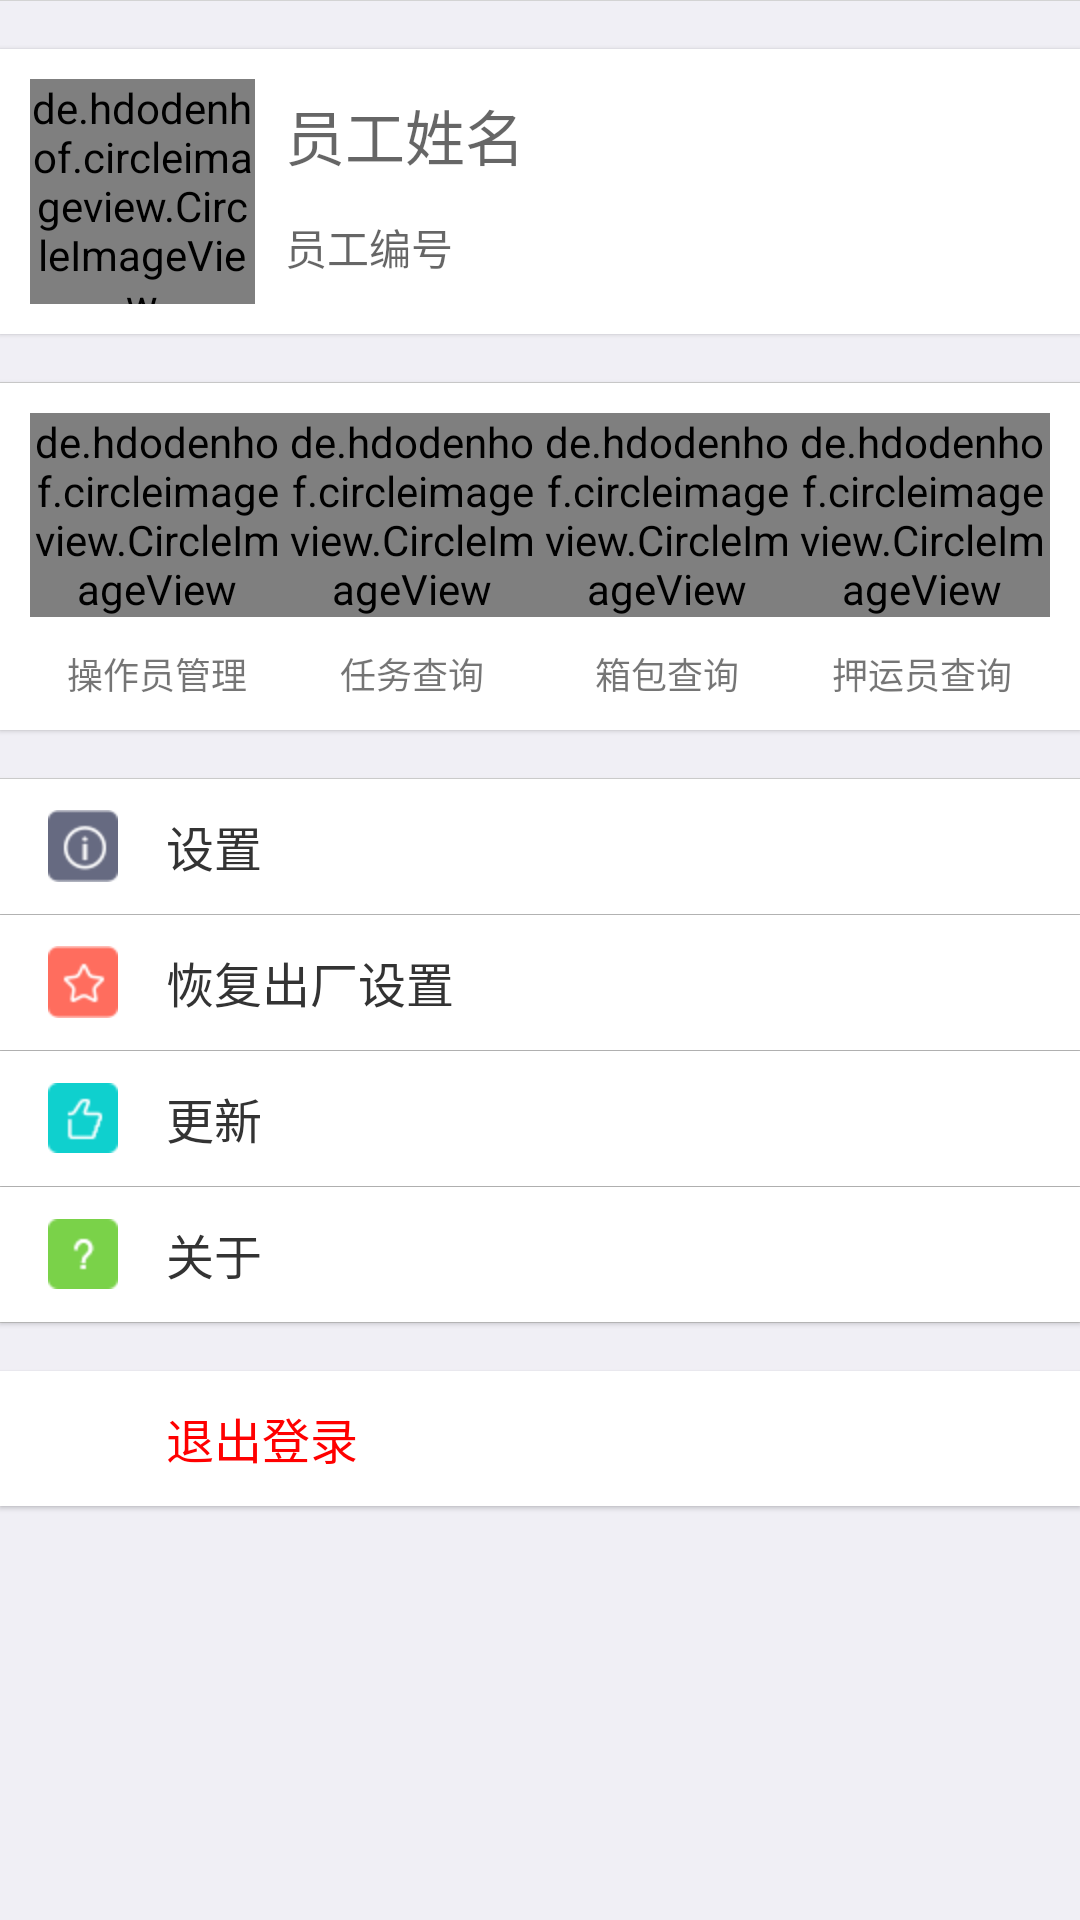

Named icons in this screenshot (1080 × 1920) and their centers, [x,y]:
user about: [83,846]
user collect: [83,982]
user help: [83,1254]
user recommended: [83,1118]
